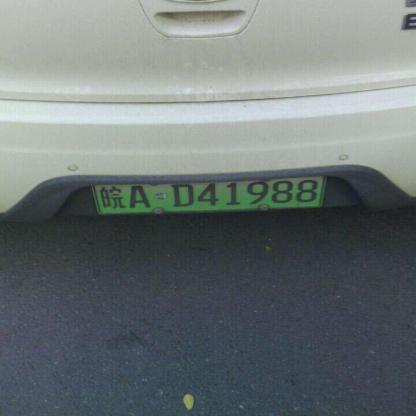lp: (95, 176, 324, 214)
